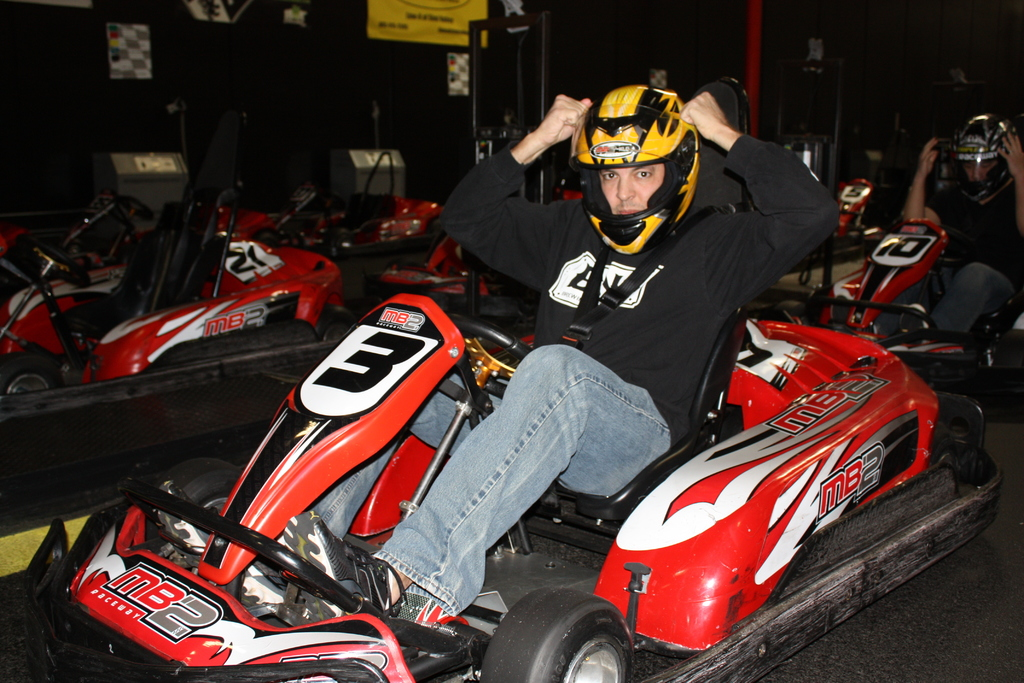Car: (0, 60, 1023, 682)
